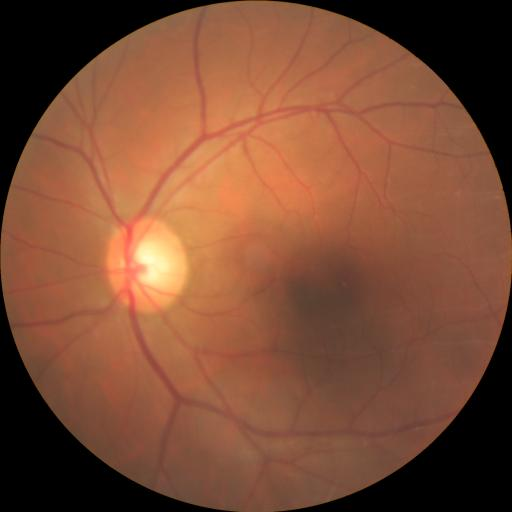Optic Cup: (123, 239, 171, 287)
Optic Disc: (105, 217, 190, 314)
